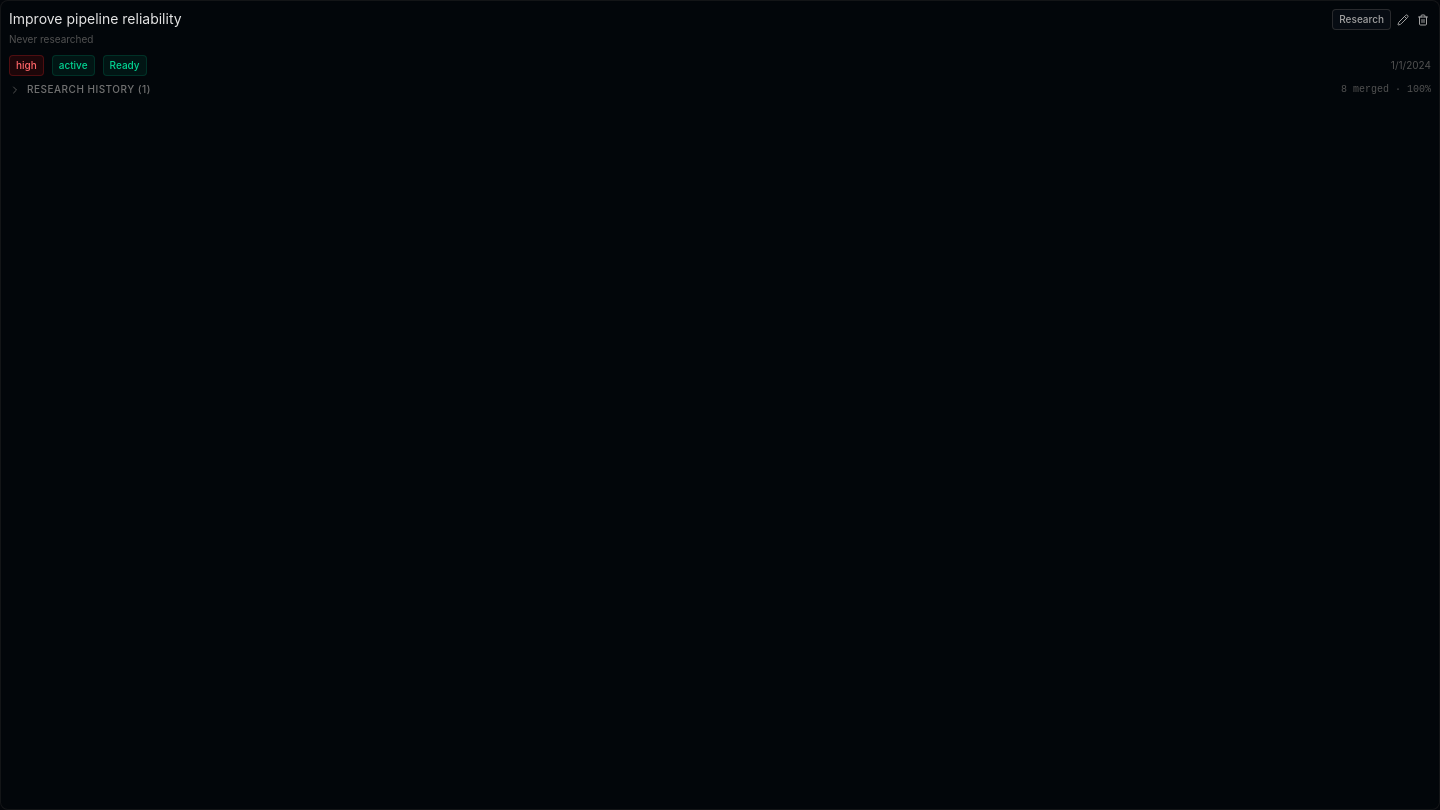
Test: DirectionCard autonomous/assisted merge split › shows only auto badge when all merges are autonomous
Click the button "Research History (1) 8 merged · 100%" at (85, 89), box [9,82,1431,97]
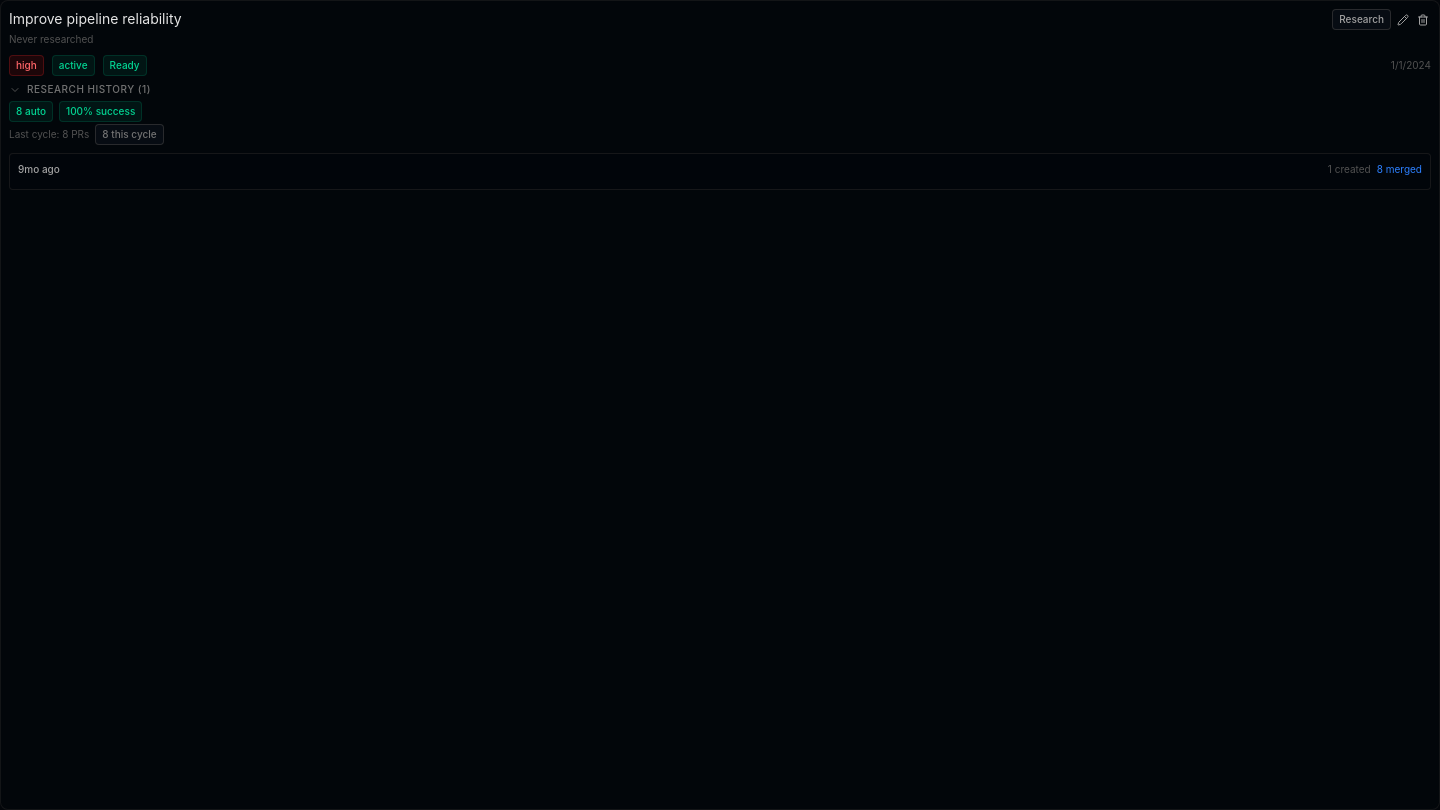
Now the text "8 auto" is shown, box [9,101,53,122]
